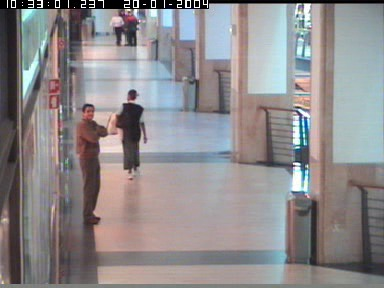person: (75, 102, 108, 223), (105, 89, 147, 180), (124, 10, 139, 46), (110, 10, 124, 46)
